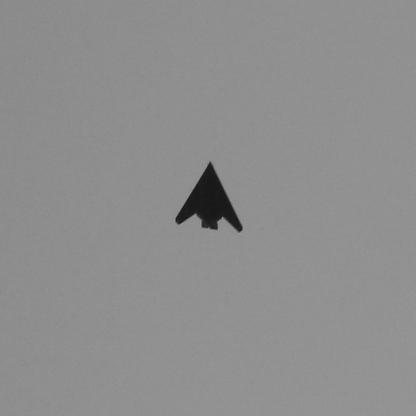F117: (176, 161, 244, 233)
